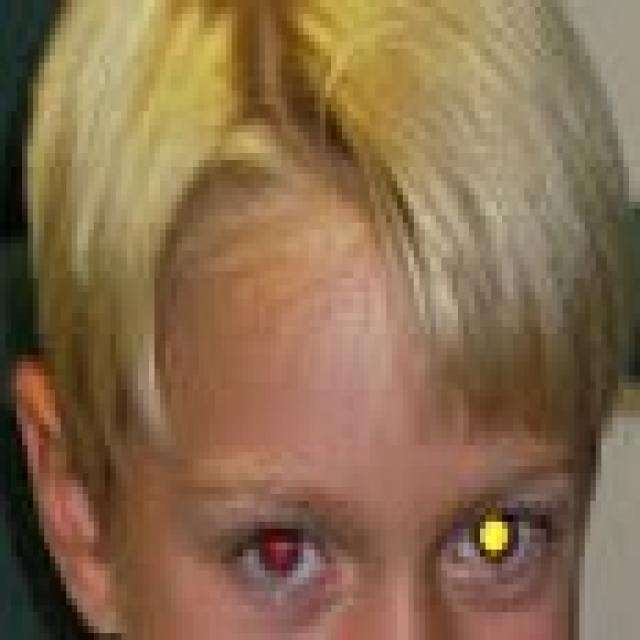reflexo-alterado: (438, 481, 568, 591)
reflexo-normal: (224, 512, 345, 604)
